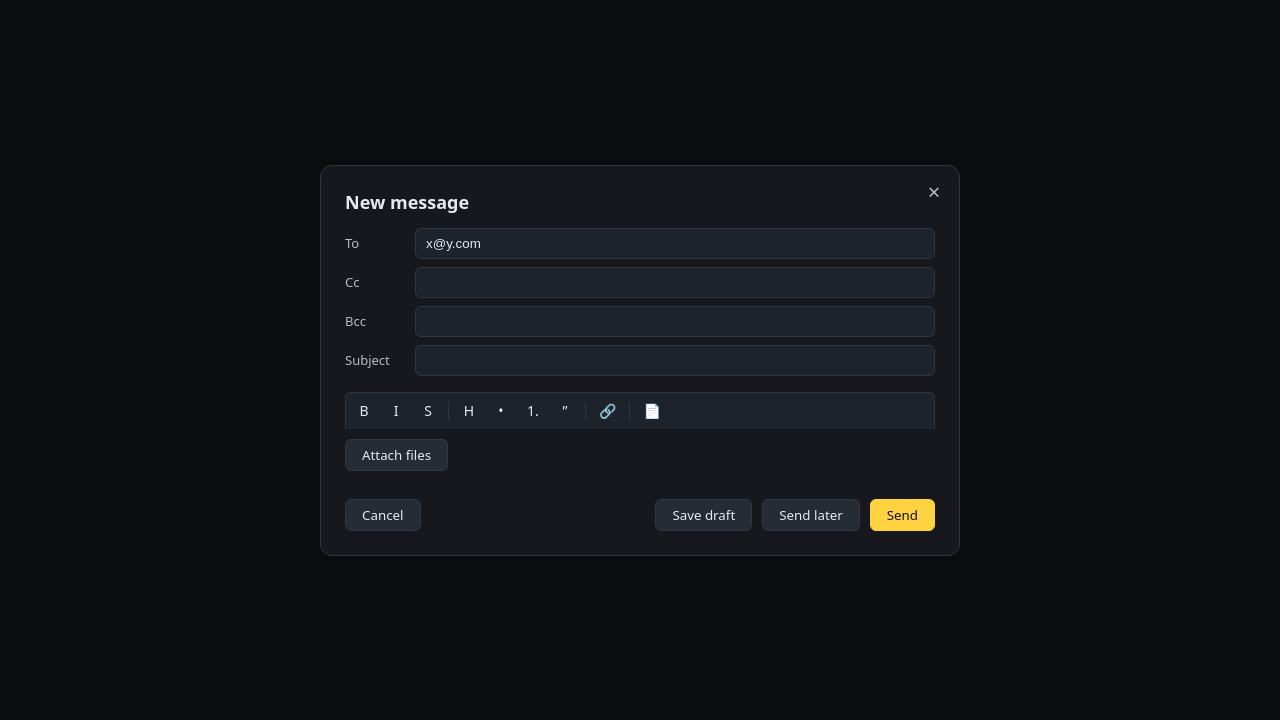
ComposeModal: send › surfaces a send error and stays open
Click the button "Send" at (902,514), box 870,498 -> 935,530
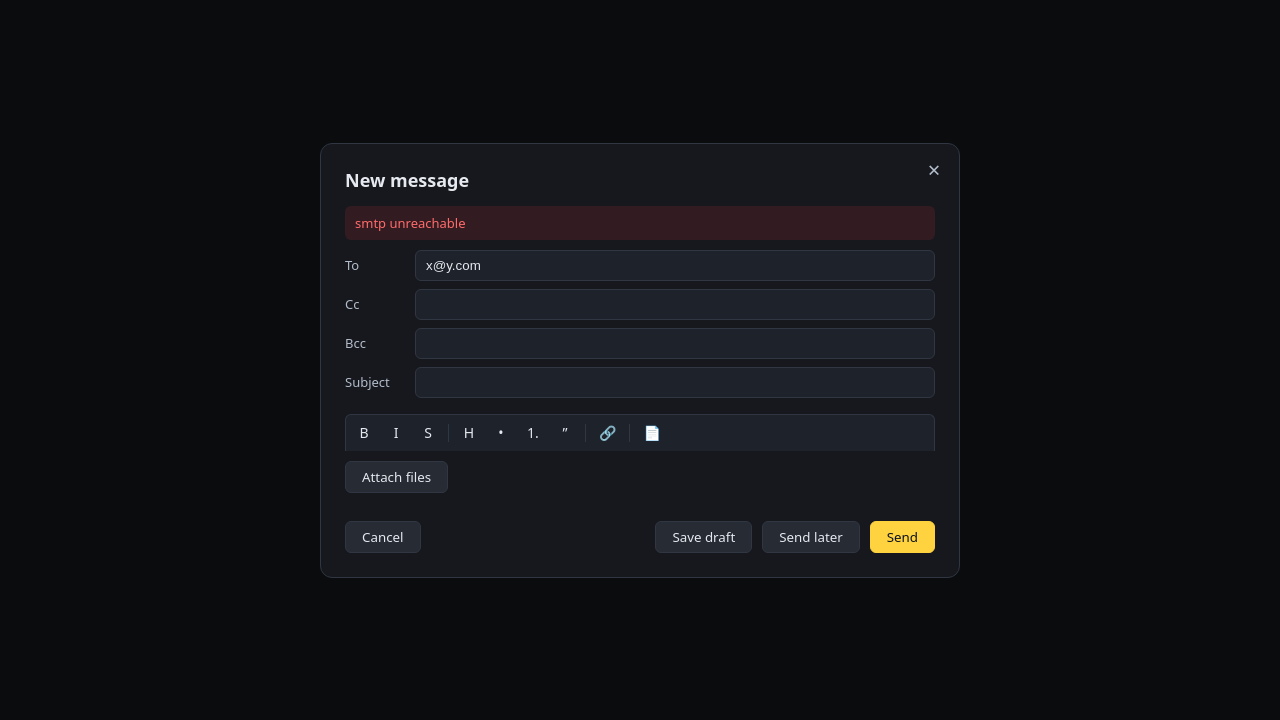
Check: the text "smtp unreachable" is shown, box 345,206 -> 935,240
